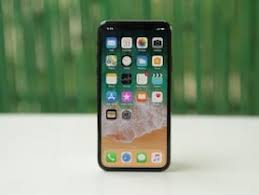iphone: (95, 17, 175, 176)
iphone10: (94, 17, 174, 176)
